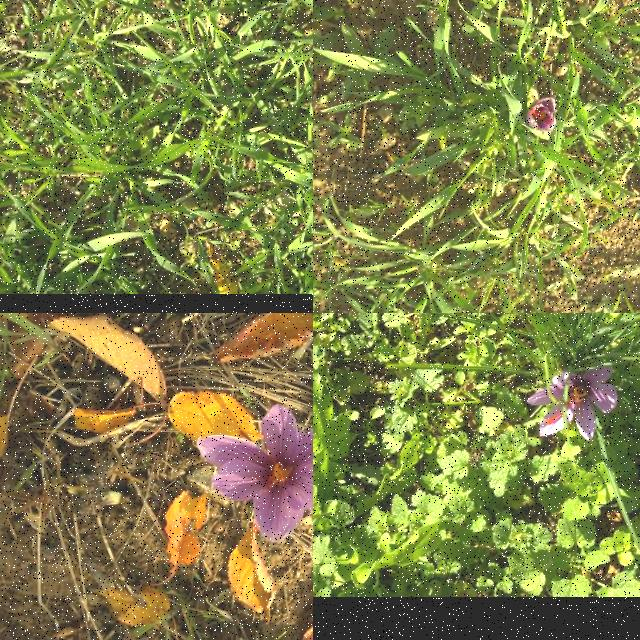flower: (196, 401, 313, 544), (528, 364, 618, 442), (526, 96, 558, 132)
